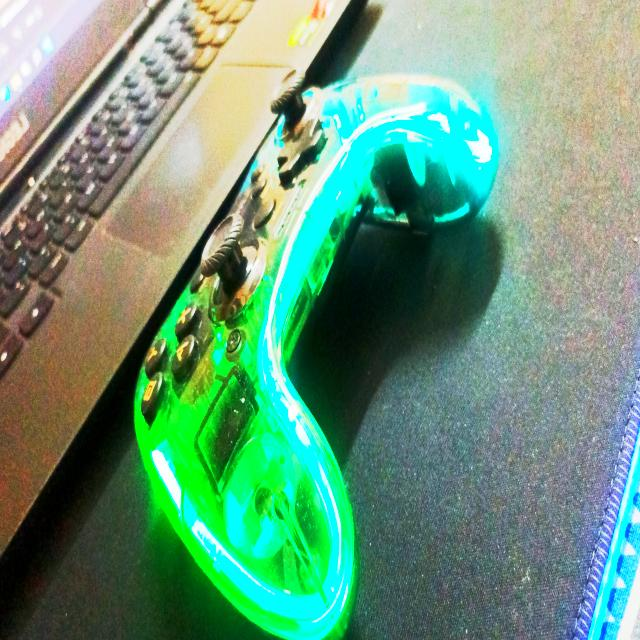gamepad: (133, 70, 500, 640)
